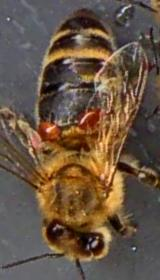varroa_mite: (32, 109, 70, 155), (72, 106, 103, 140)
